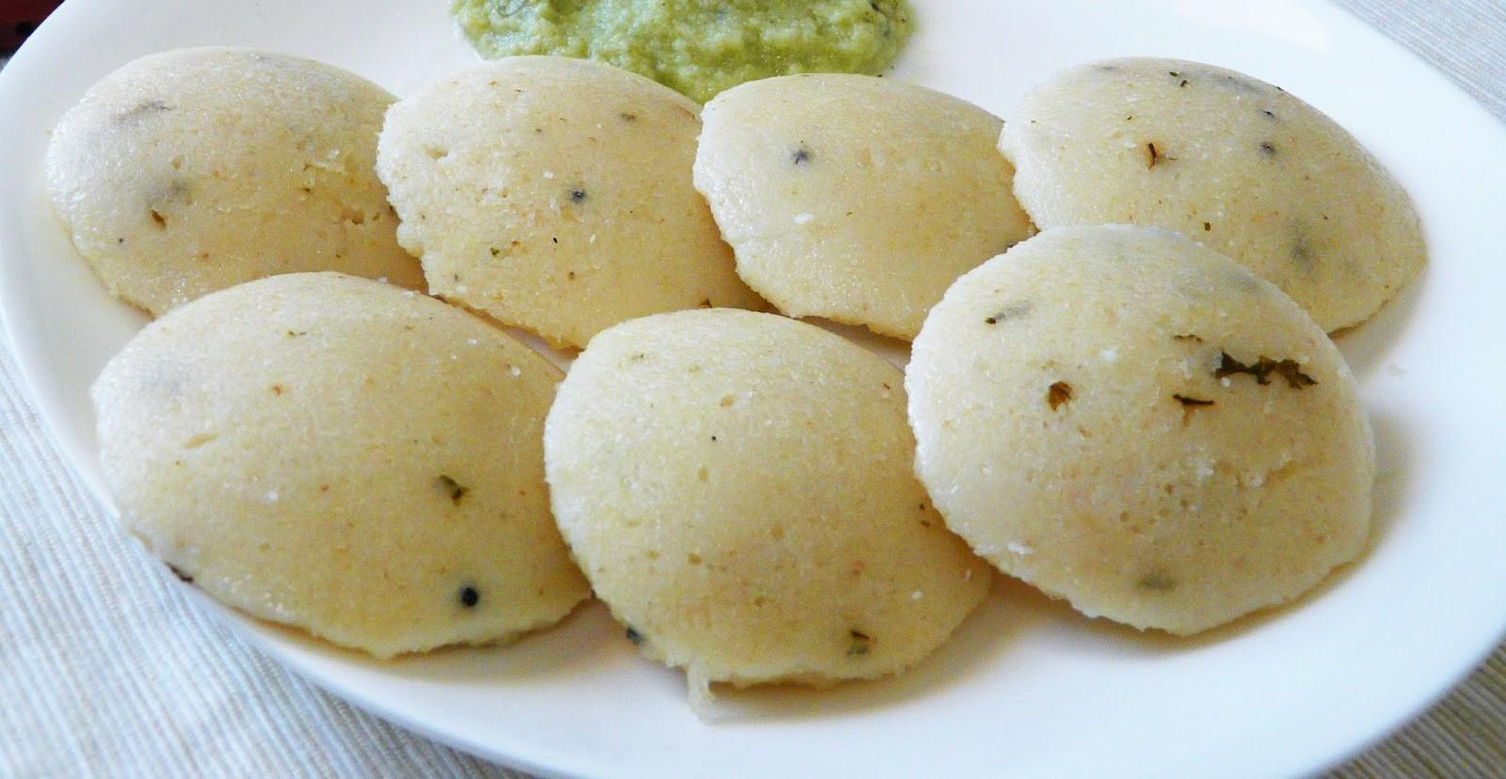Idli: (902, 225, 1385, 632), (89, 273, 588, 665), (547, 310, 996, 685), (999, 60, 1419, 341), (375, 55, 767, 354), (49, 46, 435, 328), (693, 72, 1039, 339)
